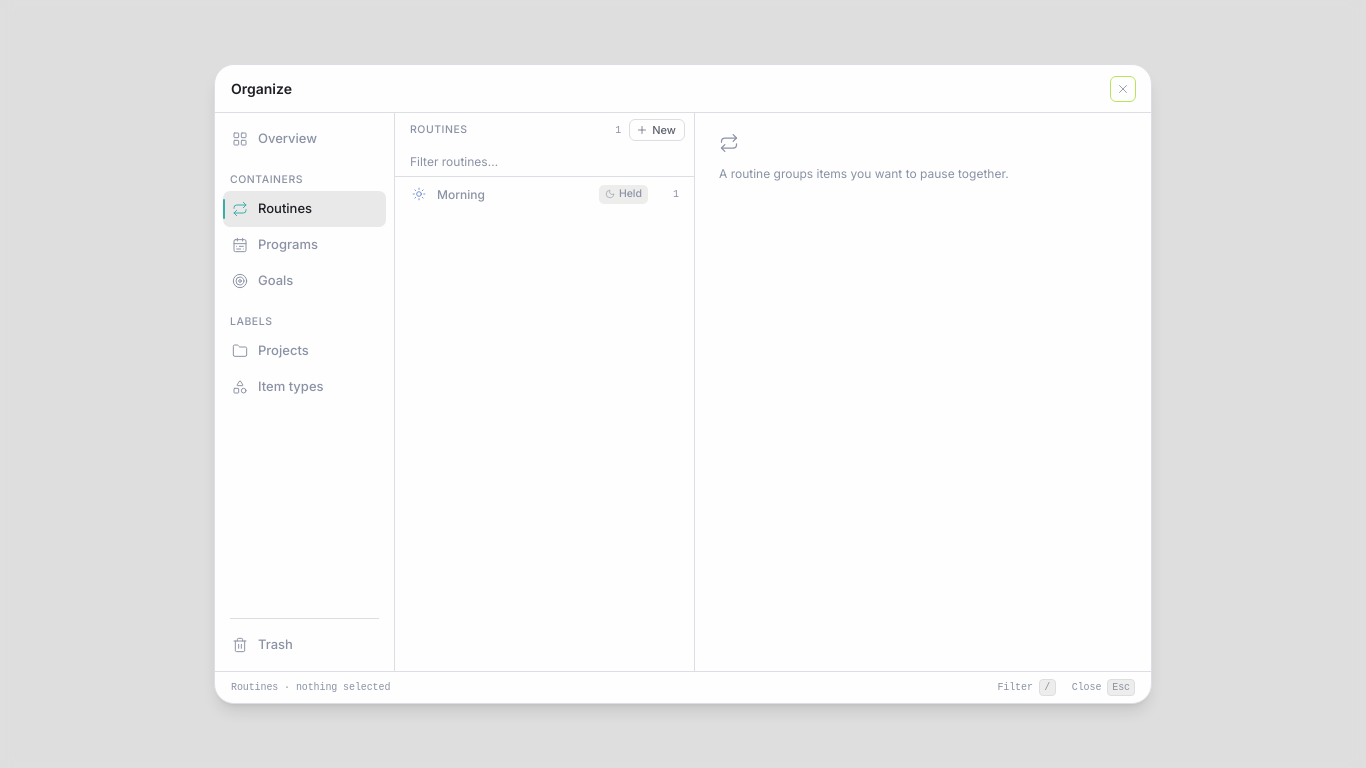
a routine a program is holding off › counts the blockers rather than naming them all
Click the button with test id "routine-row".
click(461, 194)  # box left=403, top=177, right=686, bottom=211
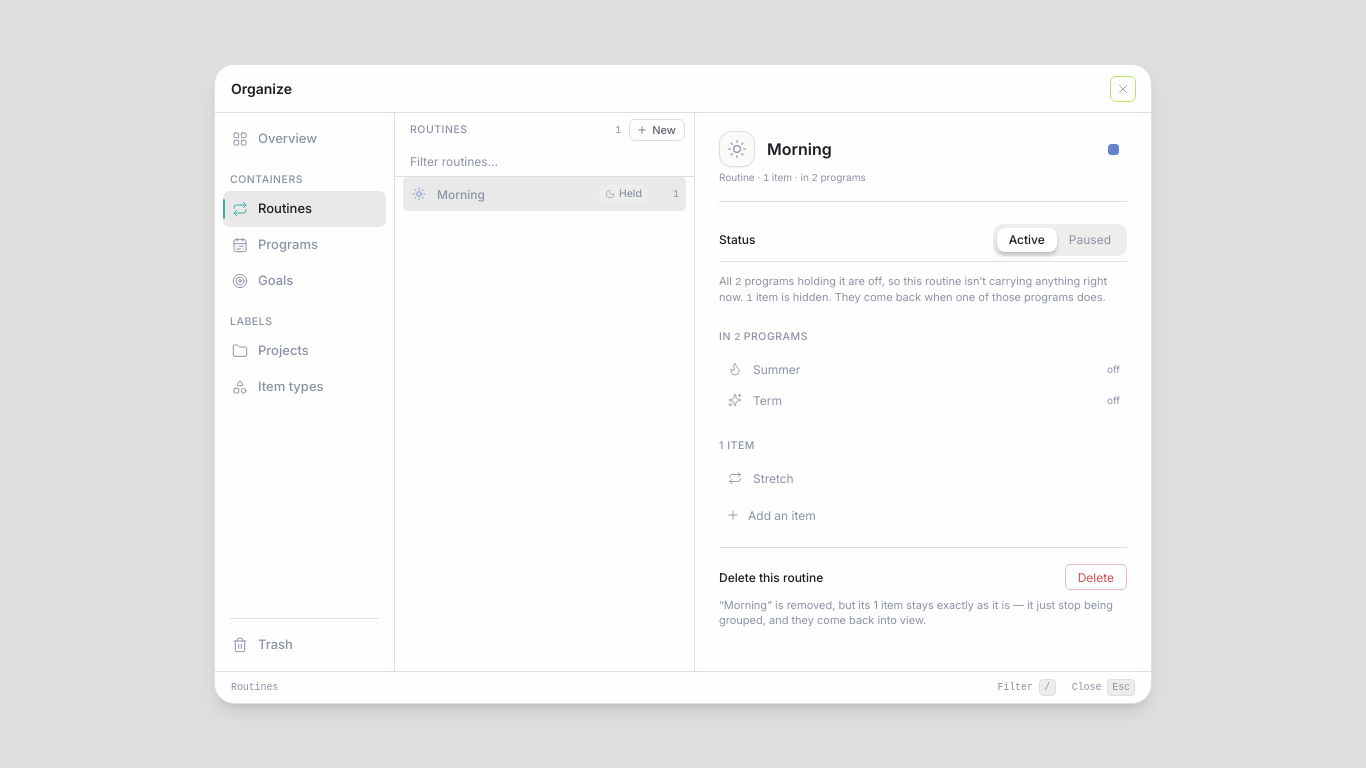
Expected: the element with test id "routine-held-note" shows "All 2 programs holding it are off", left=719, top=274, right=1127, bottom=306
